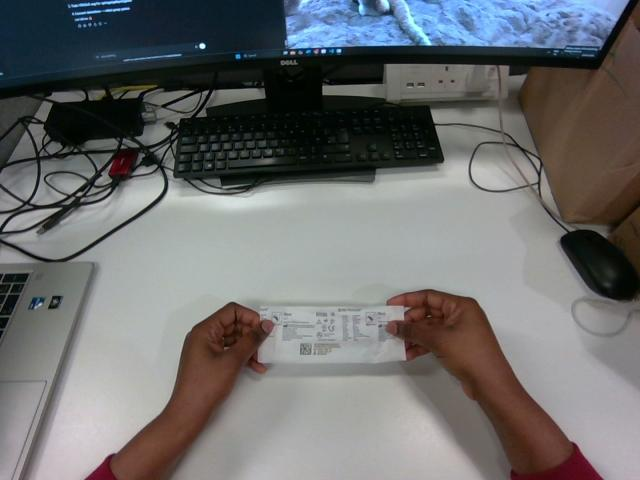syringe: (258, 306, 405, 363)
